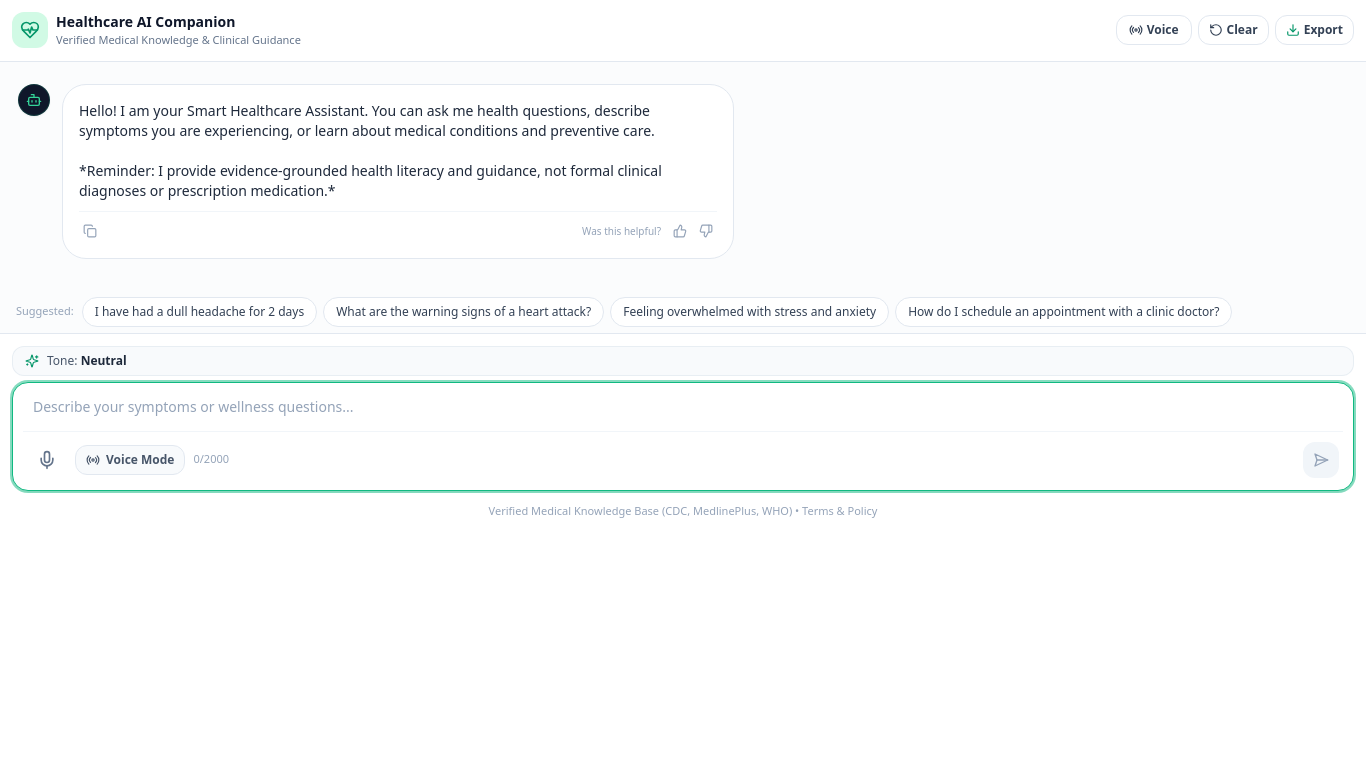
Test: Chat Interface & UI Component States › Error States Handling › handles dropped SSE network stream and displays helpful message
Step 1. Type "Can I take acetaminophen for a headache?" into the text box with placeholder "Describe your symptoms or wellness questions..." → (683, 406), box left=23, top=392, right=1343, bottom=420
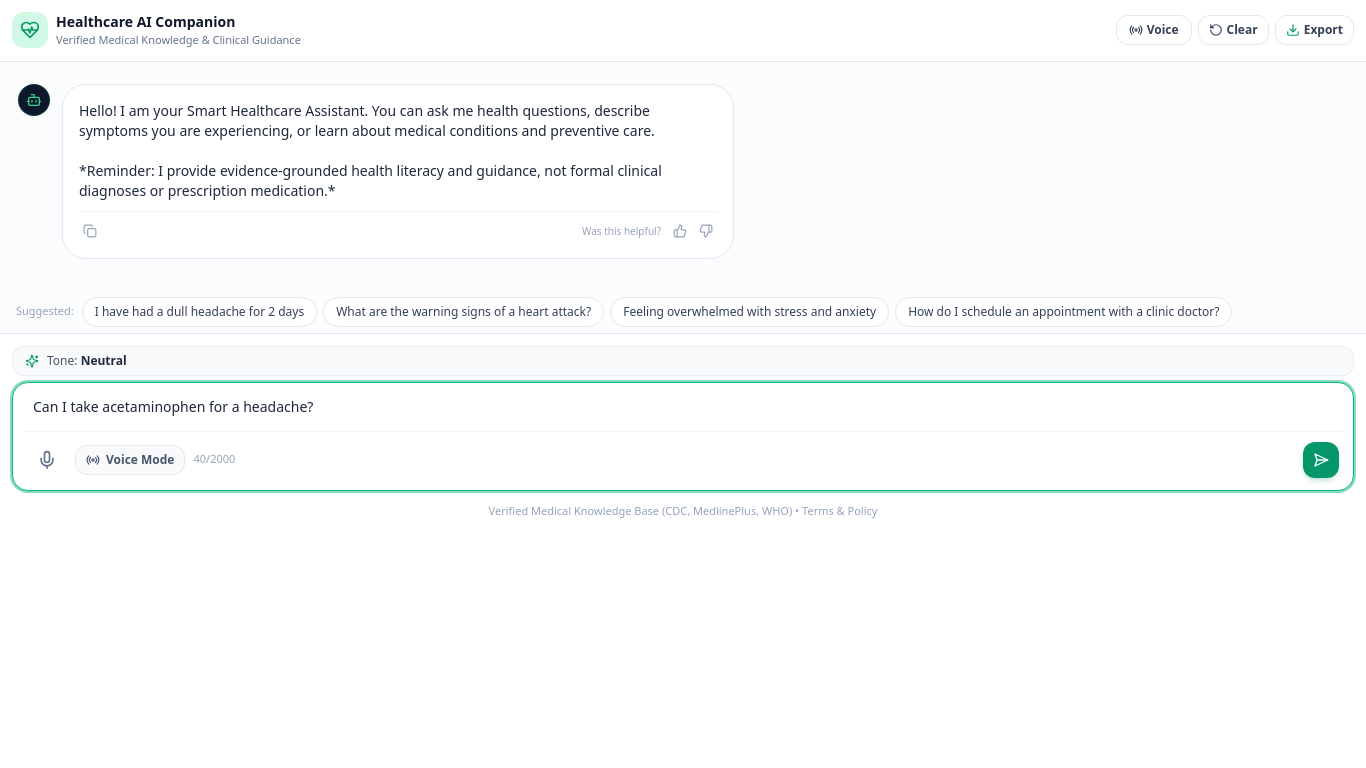
Step 2. Click the button named "Send message" → (1321, 460), box left=1303, top=442, right=1339, bottom=478
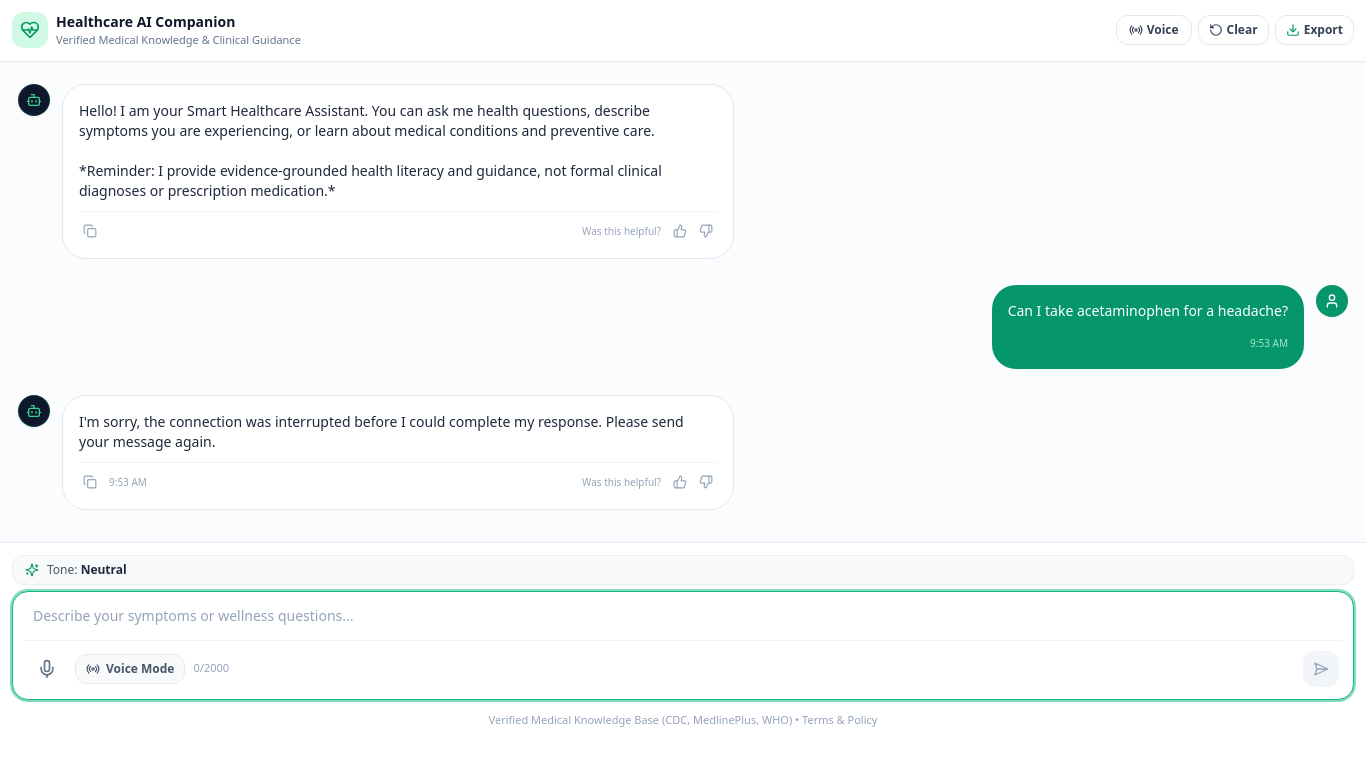
Expected: the text "I'm sorry, the connection was interrupted before I could complete my response" is shown, left=79, top=412, right=687, bottom=450
